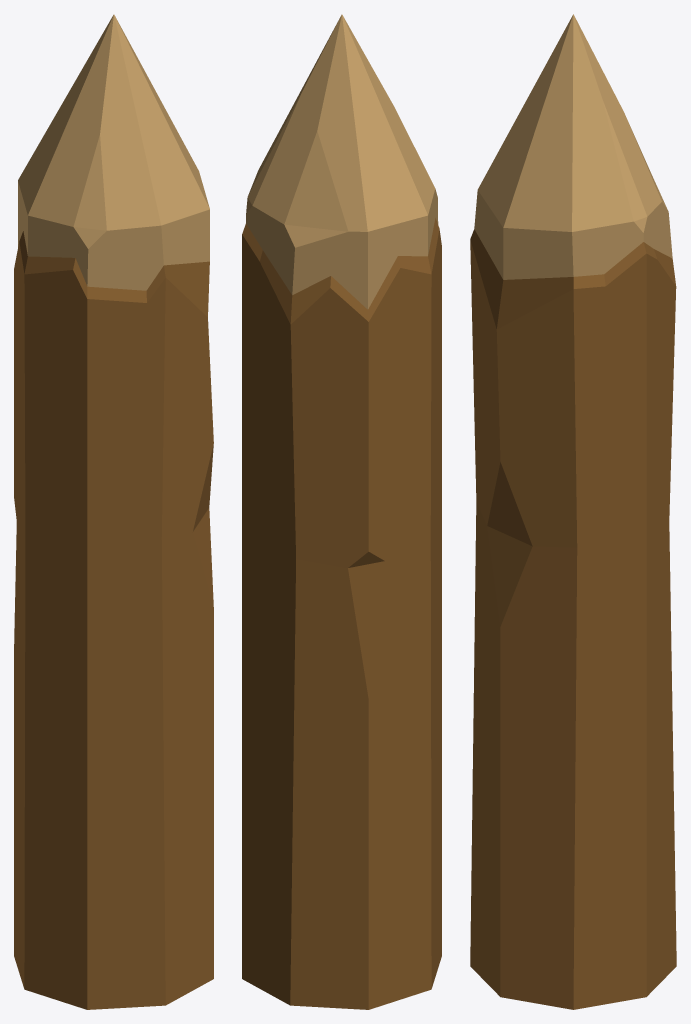
Rendered from Wooden Spike.glb.
3 renders of one model, left to right at view 1: azimuth 30°, elevation 25°; view 2: azimuth 150°, elevation 25°; view 3: azimuth 270°, elevation 25°, orthographic.
Visible parts, largest first — view 1: Spike; view 2: Spike; view 3: Spike.
Boxes of the visible parts, x1,y1,x2,y2 form: Spike: (14,14,213,1009); Spike: (242,14,441,1009); Spike: (470,14,676,1009).
Size of the model in its own units: 0.3039 by 1.55 by 0.3039.
